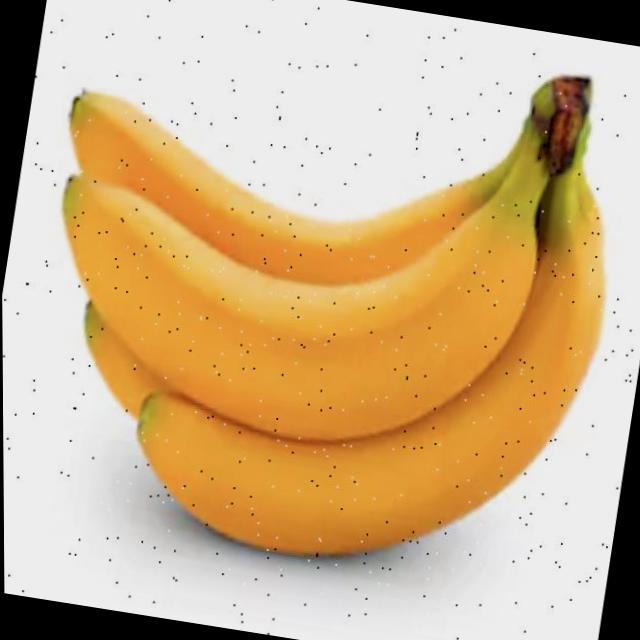Banana: (6, 0, 640, 597)
